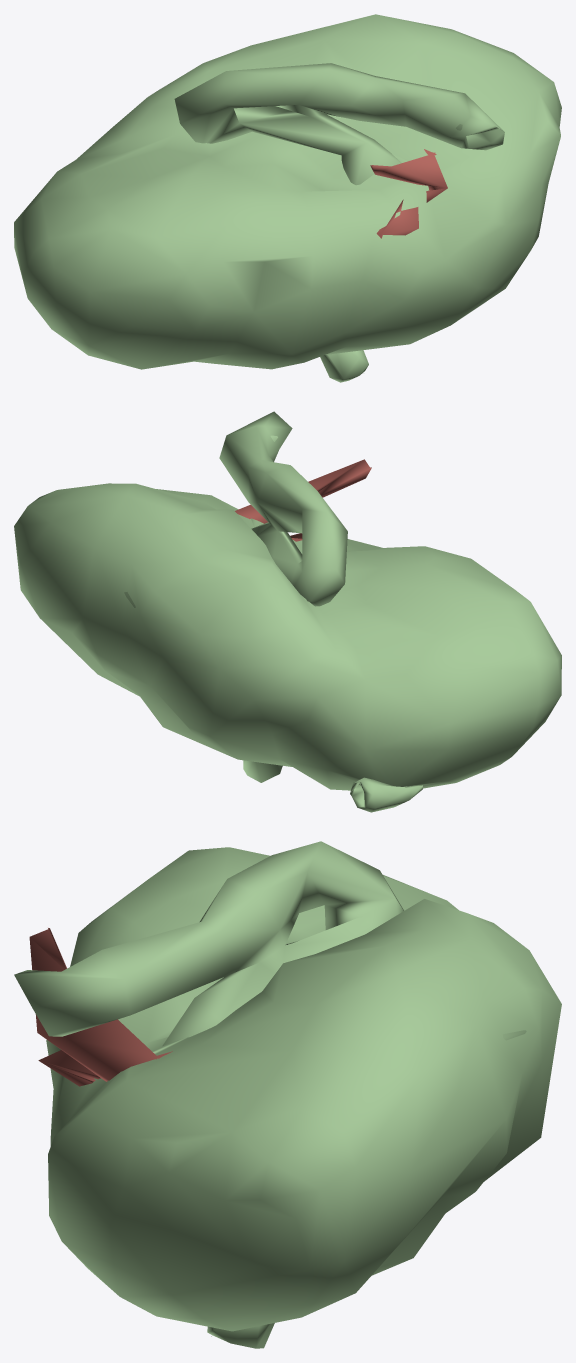
Rendered from module_tissue_lymph_node.lymphatic.LOD3.glb.
3 views of the same model, one above another, from view 1: azimuth 30°, elevation 25°; view 2: azimuth 150°, elevation 25°; view 3: azimuth 270°, elevation 25° (orthographic). The views are drawn at different scales.
Visible parts, largest first — view 1: MODULE.TISSUE.LYMPH_NODE.CAPSULE_OF_LYMPH_NODE, MODULE.TISSUE.LYMPH_NODE.EFFERENT_LYMPH_NODE, MODULE.TISSUE.LYMPH_NODE.BLOOD_VASCULATURE, MODULE.TISSUE.LYMPH_NODE.AFFERENT_LYMPHATIC_VESSEL; view 2: MODULE.TISSUE.LYMPH_NODE.CAPSULE_OF_LYMPH_NODE, MODULE.TISSUE.LYMPH_NODE.EFFERENT_LYMPH_NODE, MODULE.TISSUE.LYMPH_NODE.AFFERENT_LYMPHATIC_VESSEL, MODULE.TISSUE.LYMPH_NODE.BLOOD_VASCULATURE; view 3: MODULE.TISSUE.LYMPH_NODE.CAPSULE_OF_LYMPH_NODE, MODULE.TISSUE.LYMPH_NODE.EFFERENT_LYMPH_NODE, MODULE.TISSUE.LYMPH_NODE.BLOOD_VASCULATURE, MODULE.TISSUE.LYMPH_NODE.AFFERENT_LYMPHATIC_VESSEL.
Part boxes in pixels (x1,y1,x2,y2): MODULE.TISSUE.LYMPH_NODE.CAPSULE_OF_LYMPH_NODE: (14,14,561,369); MODULE.TISSUE.LYMPH_NODE.EFFERENT_LYMPH_NODE: (174,63,504,185); MODULE.TISSUE.LYMPH_NODE.BLOOD_VASCULATURE: (370,149,447,238); MODULE.TISSUE.LYMPH_NODE.AFFERENT_LYMPHATIC_VESSEL: (320,350,368,382); MODULE.TISSUE.LYMPH_NODE.CAPSULE_OF_LYMPH_NODE: (14,483,561,790); MODULE.TISSUE.LYMPH_NODE.EFFERENT_LYMPH_NODE: (219,411,347,606); MODULE.TISSUE.LYMPH_NODE.AFFERENT_LYMPHATIC_VESSEL: (243,760,422,812); MODULE.TISSUE.LYMPH_NODE.BLOOD_VASCULATURE: (235,459,371,541); MODULE.TISSUE.LYMPH_NODE.CAPSULE_OF_LYMPH_NODE: (46,847,561,1331); MODULE.TISSUE.LYMPH_NODE.EFFERENT_LYMPH_NODE: (14,841,403,1046); MODULE.TISSUE.LYMPH_NODE.BLOOD_VASCULATURE: (29,928,172,1086); MODULE.TISSUE.LYMPH_NODE.AFFERENT_LYMPHATIC_VESSEL: (207,1323,274,1348).
Bounding box in the file's own units: 0.0196 × 0.0113 × 0.0124.
